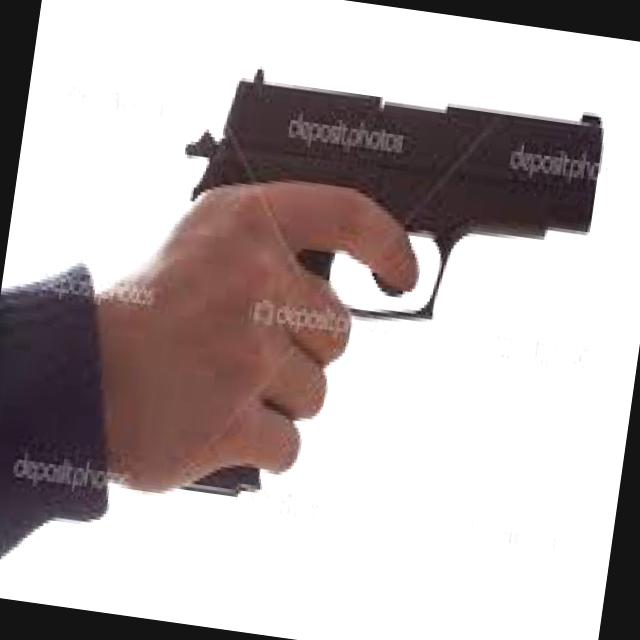handgun: (131, 39, 618, 546)
